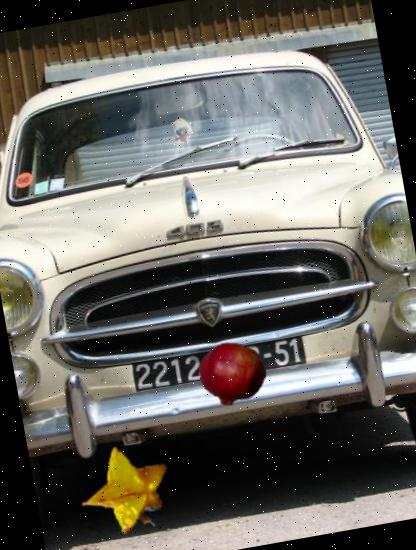Carambula: (76, 438, 181, 543)
Pomegranate: (193, 335, 271, 413)
